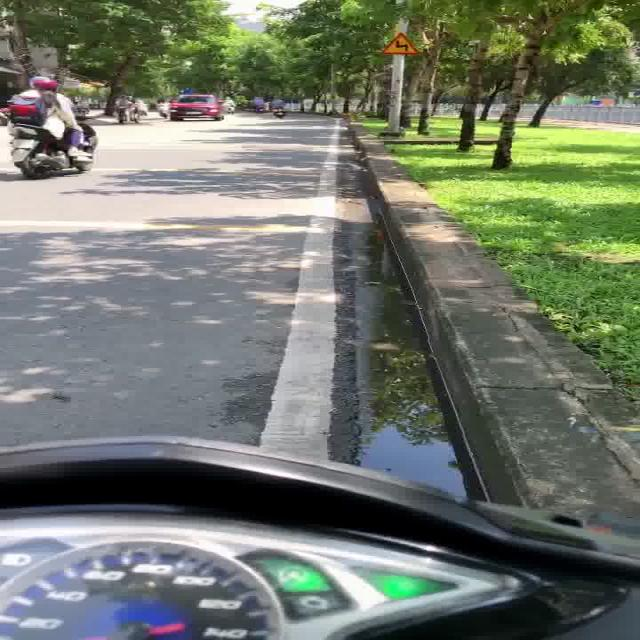Bien bao nhieu cho ngoat nguy hiem lien tiep: (375, 28, 422, 56)
